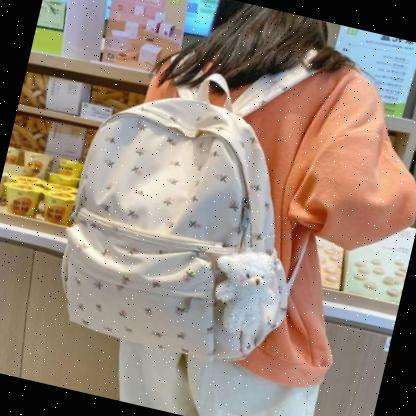bag: (36, 6, 338, 388)
